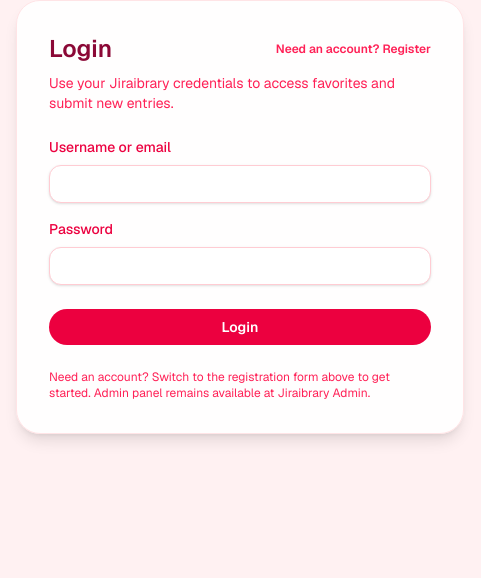
Test: LoginPage › blocks registration submission when passwords do not match
The width and height of the screenshot is (481, 578).
Click the button "Need an account? Register" at (353,49), box [276,41,431,57]
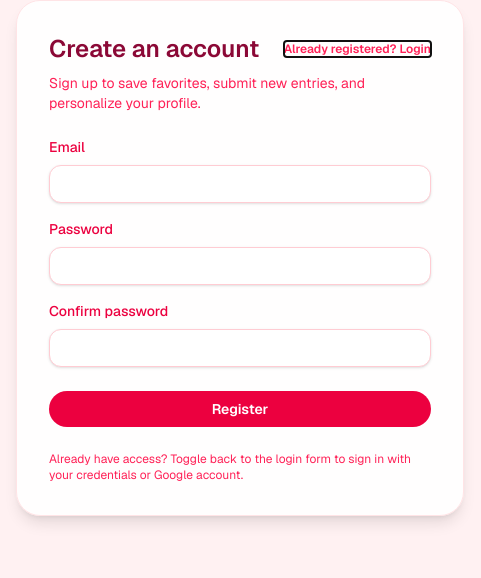
Type "new@example.com" into the field labelled "Email" at (240,184), box [49,165,431,203]
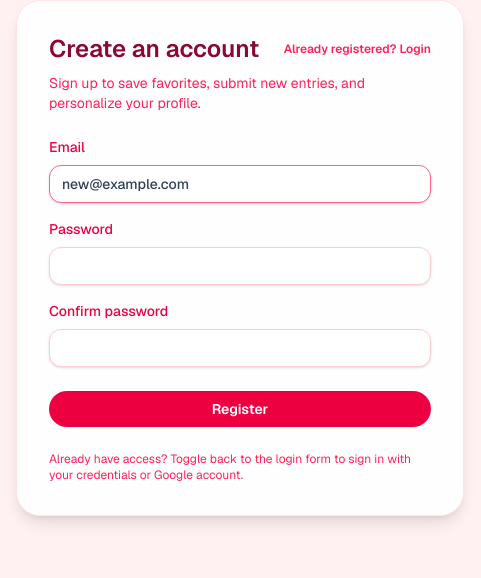
Type "secretpass" into the password field labelled "Password" at (240,266), box [49,247,431,285]
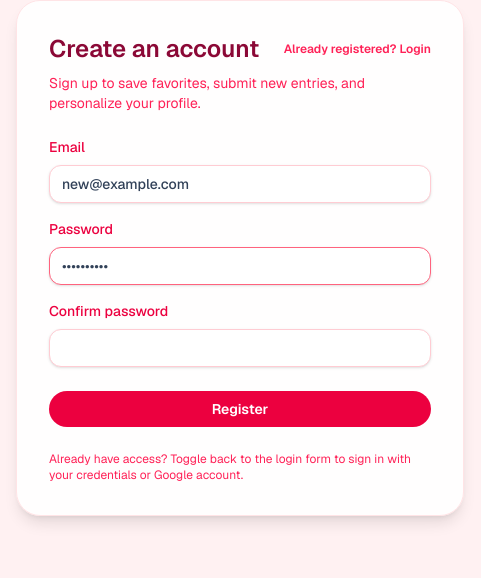
Type "different" into the password field labelled "Confirm password" at (240,348), box [49,329,431,367]
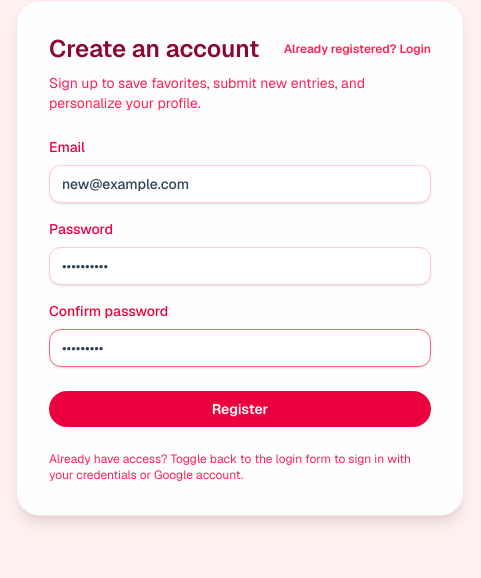
Click the button "Register" at (240,409), box [49,391,431,427]
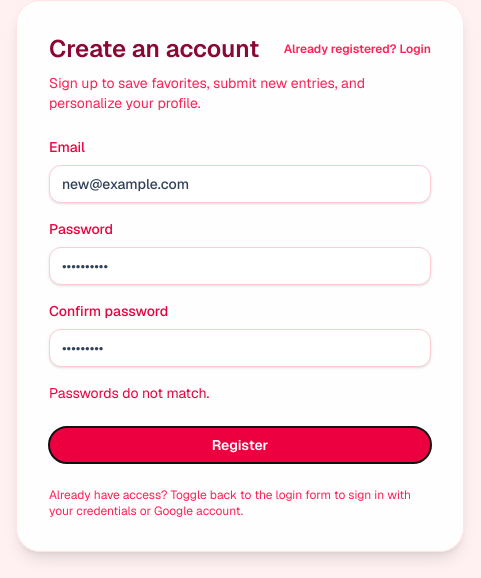
Expected: the text "Passwords do not match." is shown, [49,384,209,402]
